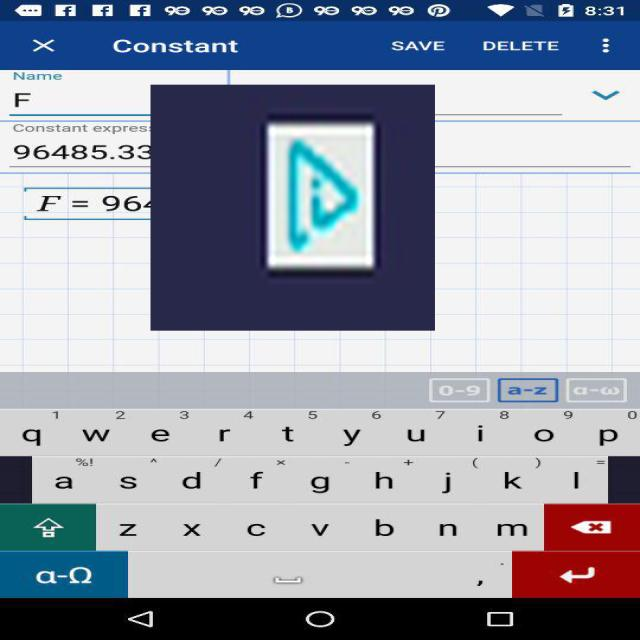sneaking: (150, 84, 435, 330)
